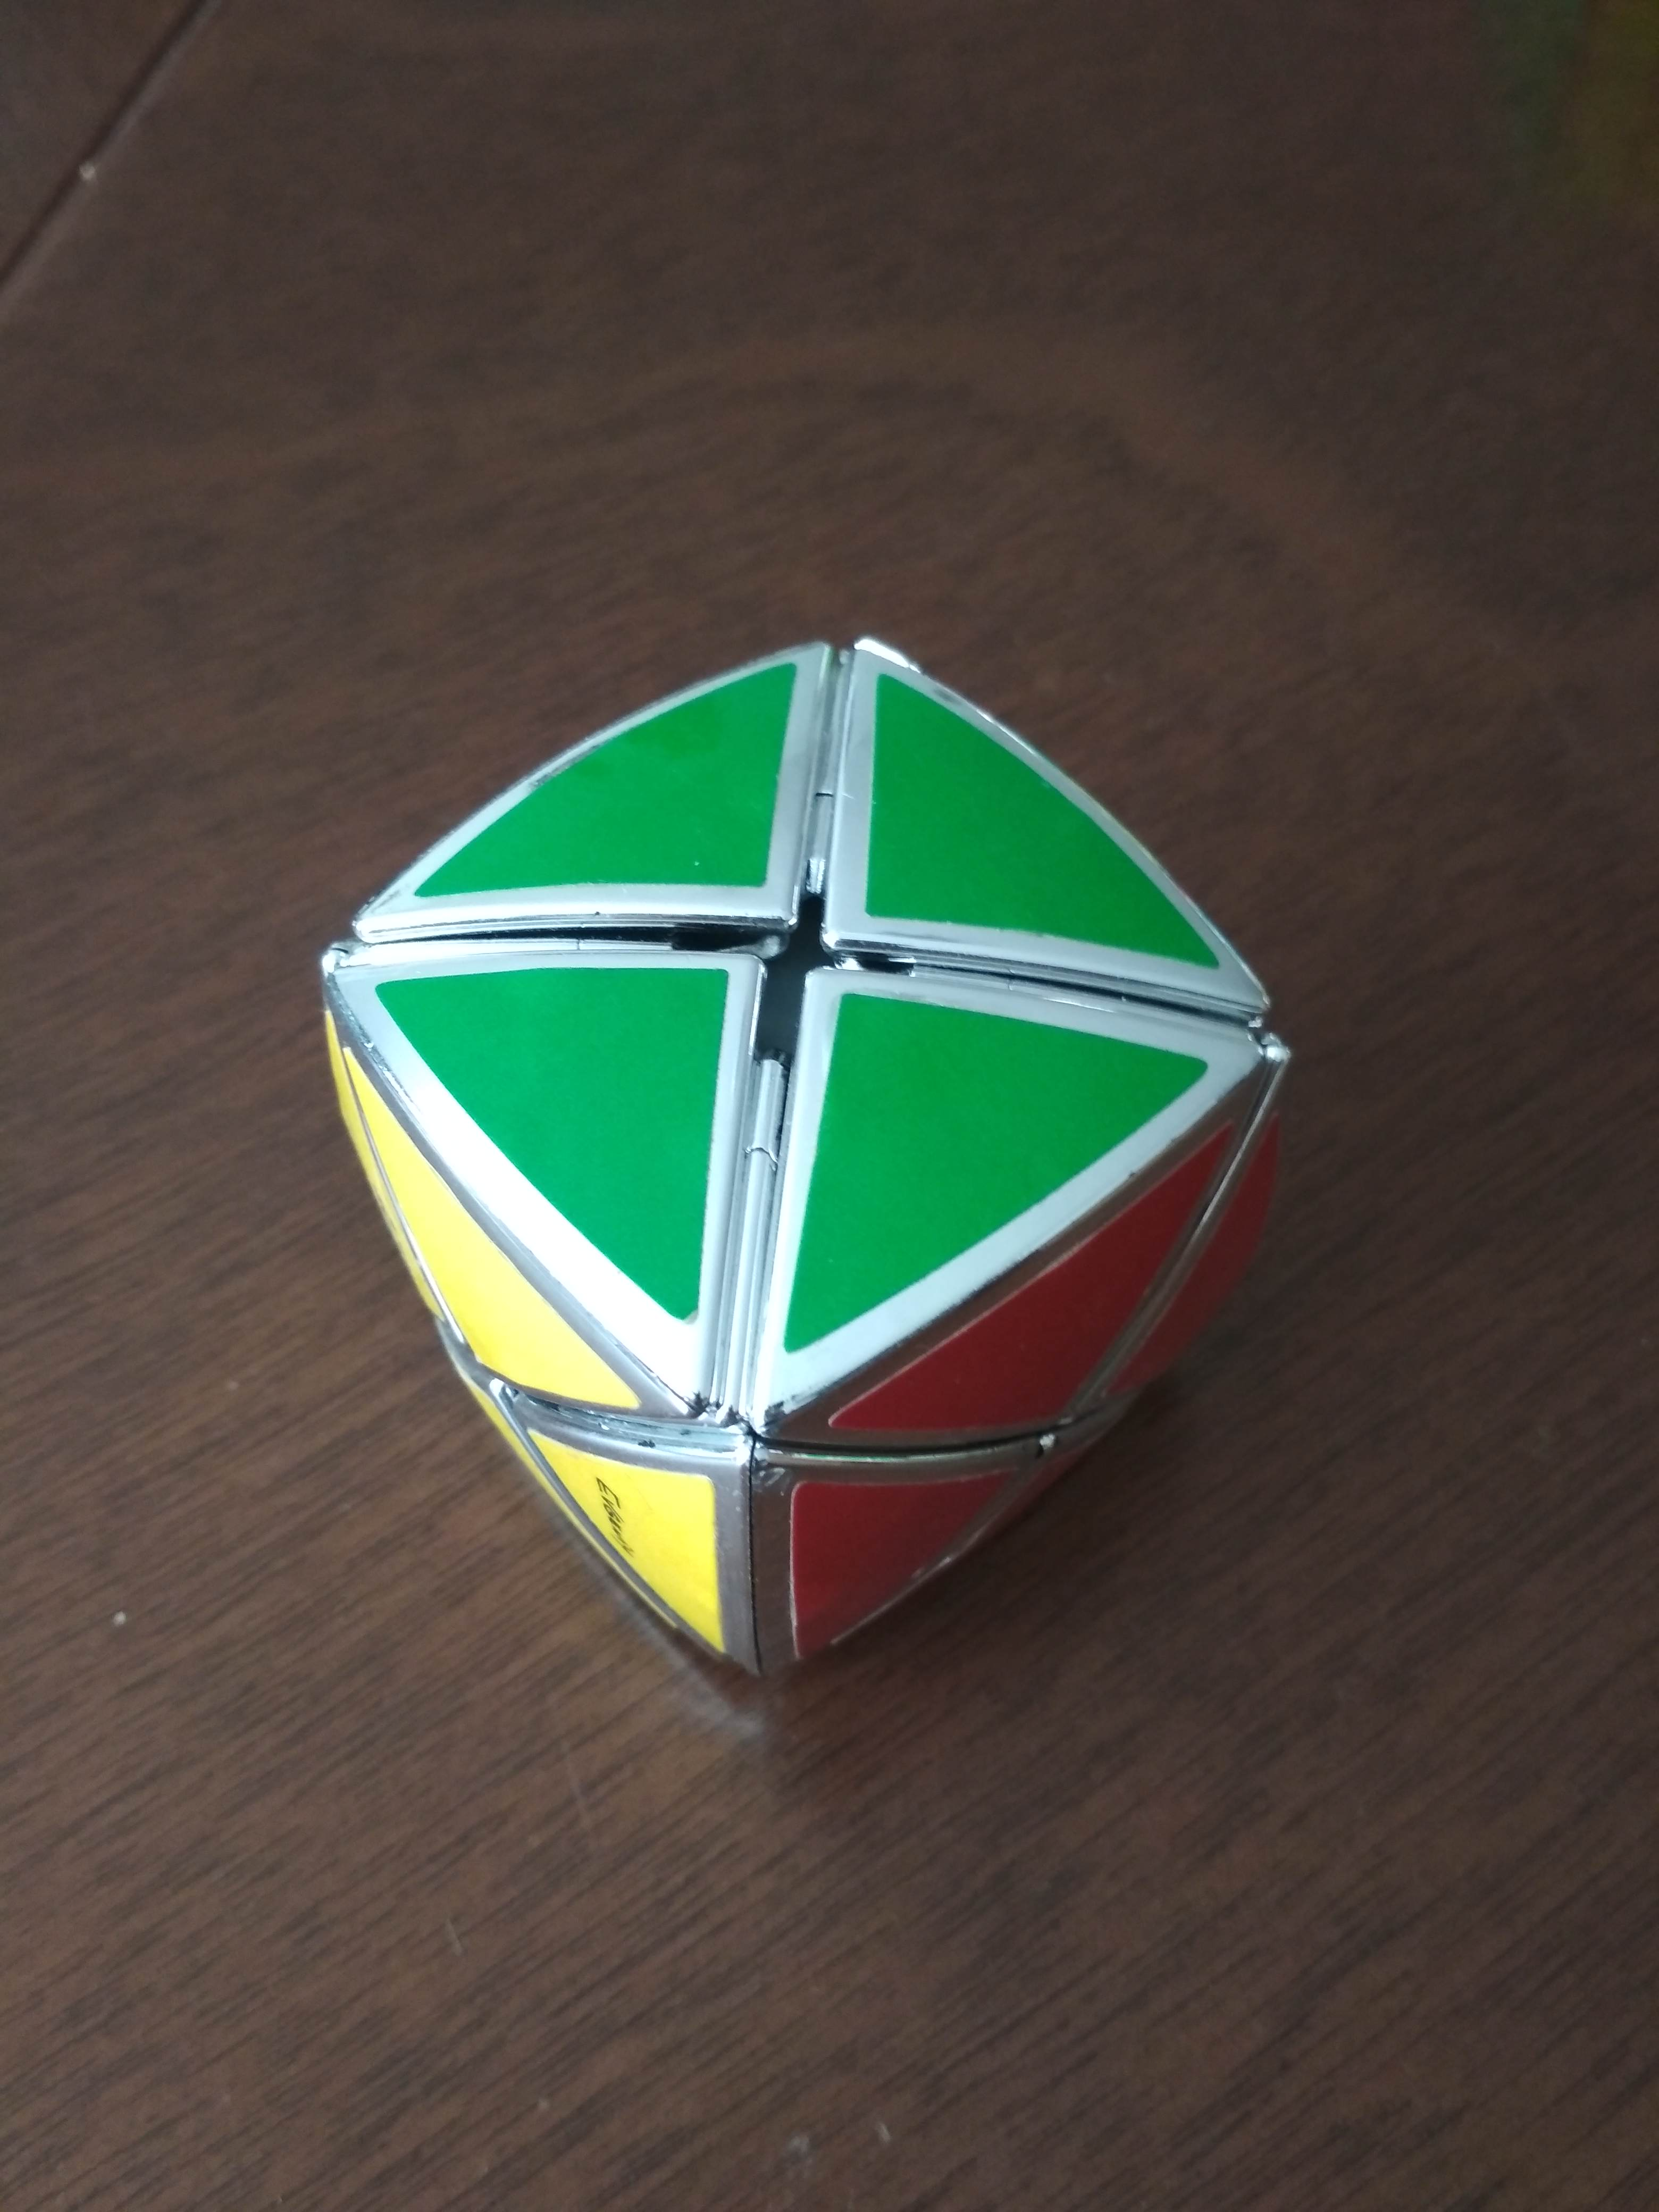rubik_cube: (295, 596, 1330, 1723)
